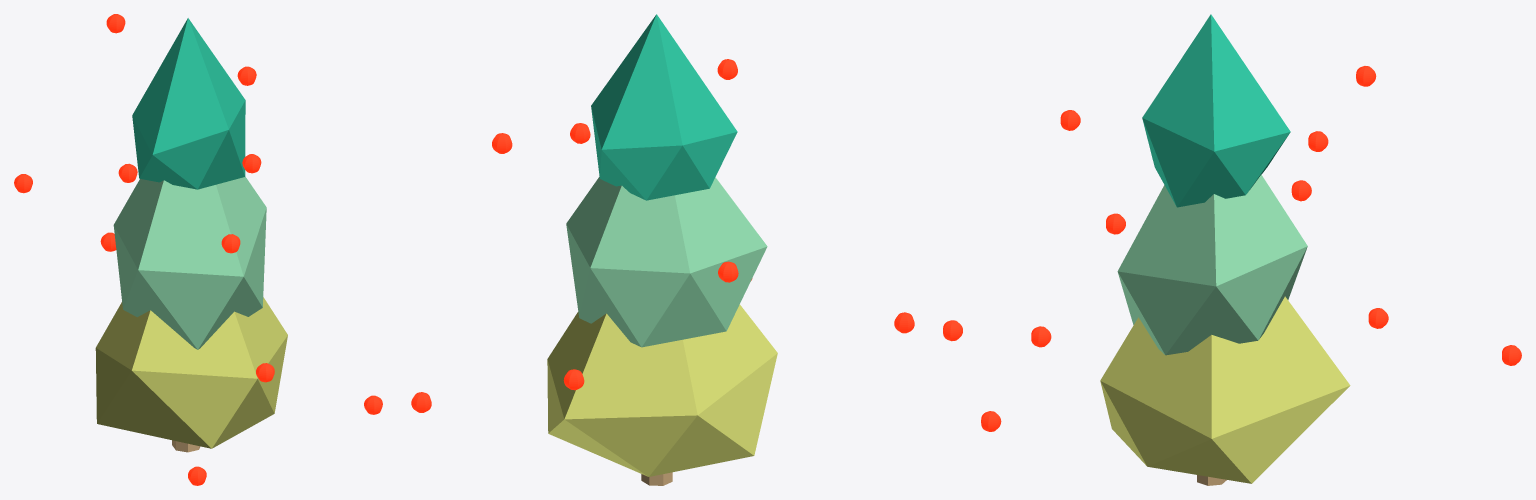
File: Tree_2_Fixed.fbx
3 views of the same model, side by side, from view 1: azimuth 30°, elevation 25°; view 2: azimuth 150°, elevation 25°; view 3: azimuth 270°, elevation 25° (orthographic). The views are drawn at different scales.
Parts seen in each view (by area): view 1: Sphere; view 2: Sphere; view 3: Sphere.
Boxes of the visible parts, box(x1,y1,x2,y2) form: Sphere: box(14, 14, 382, 485); Sphere: box(411, 14, 914, 485); Sphere: box(943, 14, 1521, 485).
Bounding box in the file's own units: 505 × 890 × 1002.
